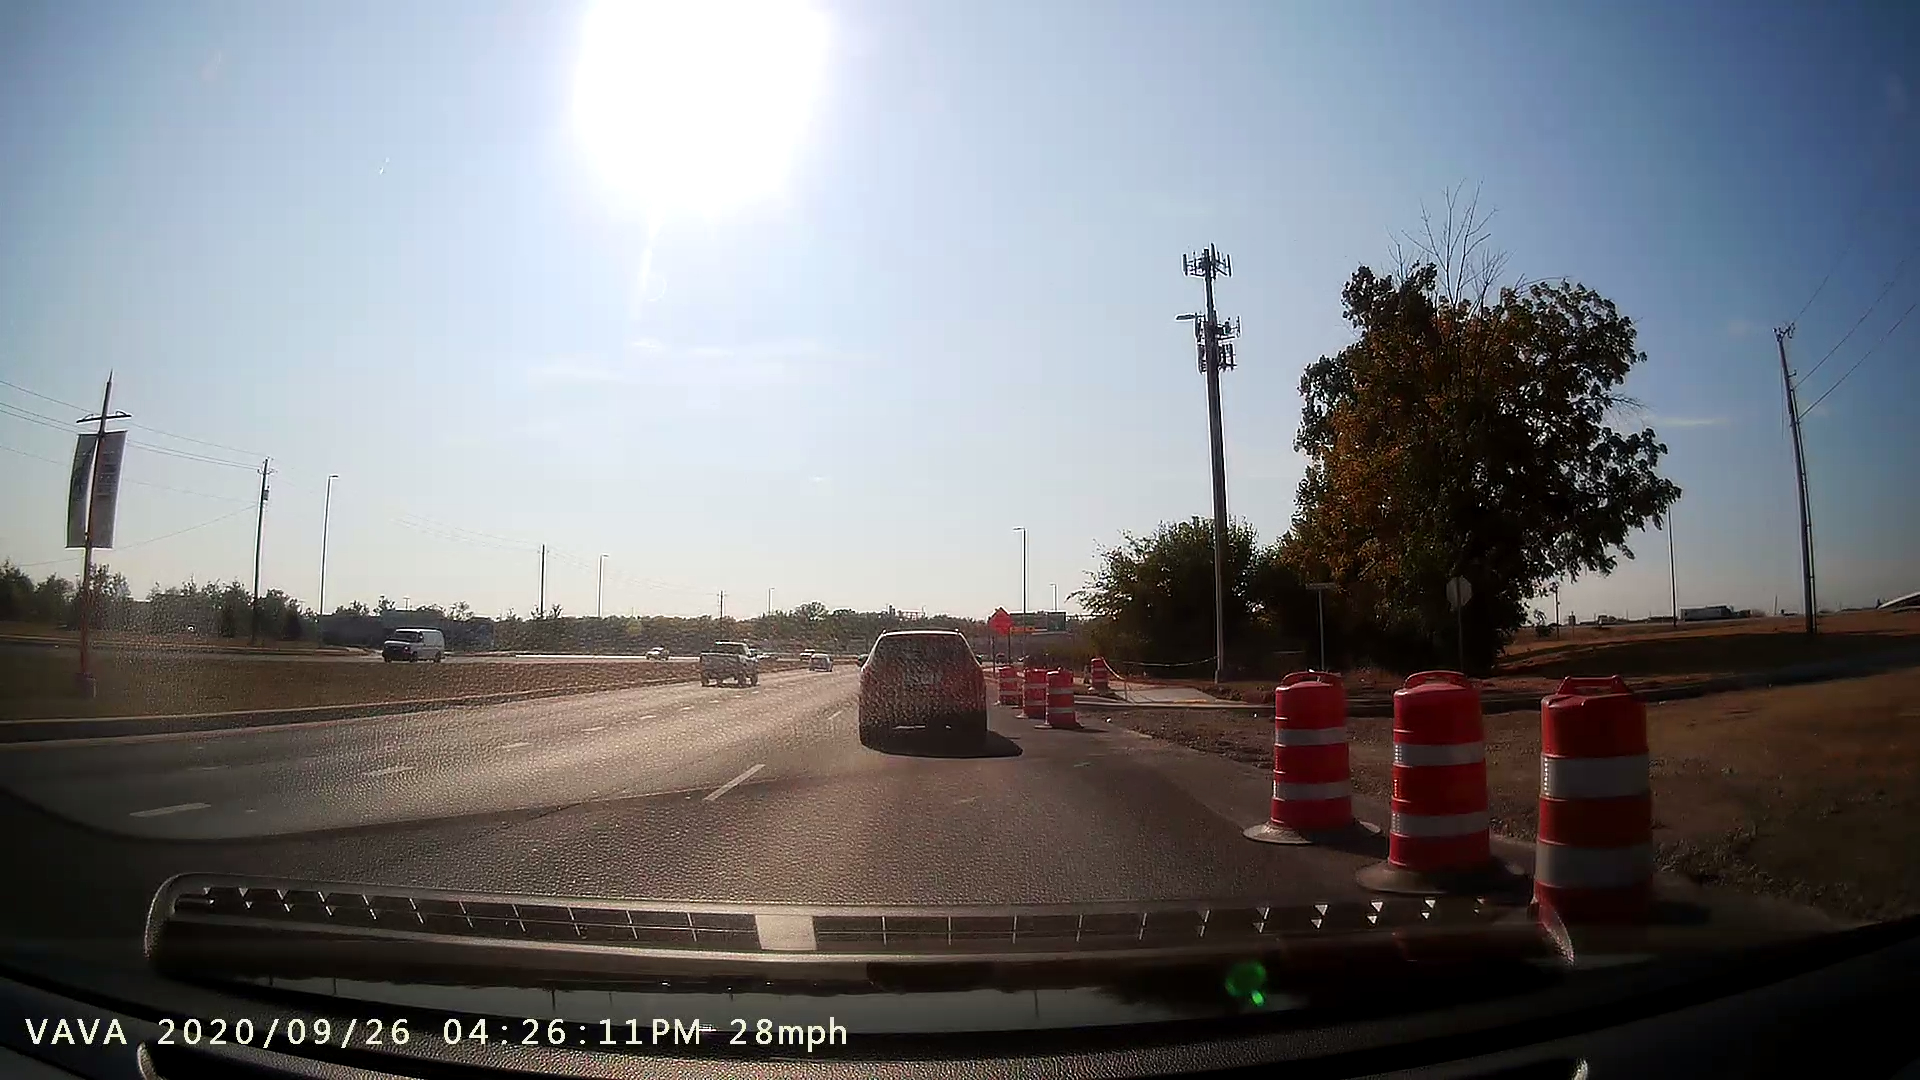const_barrel: (1364, 675, 1523, 894), (1241, 653, 1358, 844), (1035, 665, 1088, 735)
